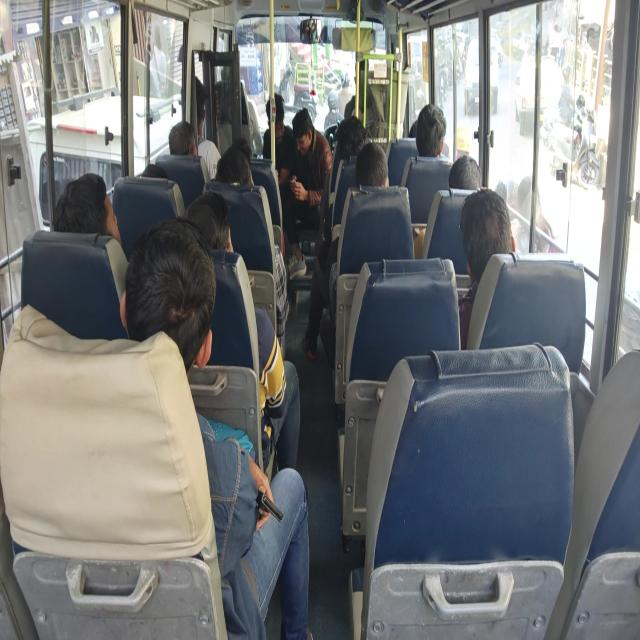person: (128, 230, 234, 395), (58, 166, 154, 266), (456, 184, 522, 280), (193, 182, 246, 255), (290, 109, 342, 183), (355, 140, 403, 199), (264, 83, 302, 155), (178, 78, 214, 140), (215, 150, 257, 203), (338, 108, 379, 156), (419, 97, 449, 158), (161, 114, 202, 158), (140, 156, 180, 194), (451, 152, 486, 195), (227, 132, 257, 160), (407, 115, 428, 138)
